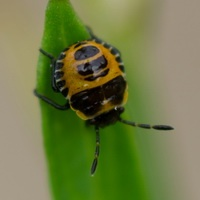insect: (34, 26, 173, 174)
